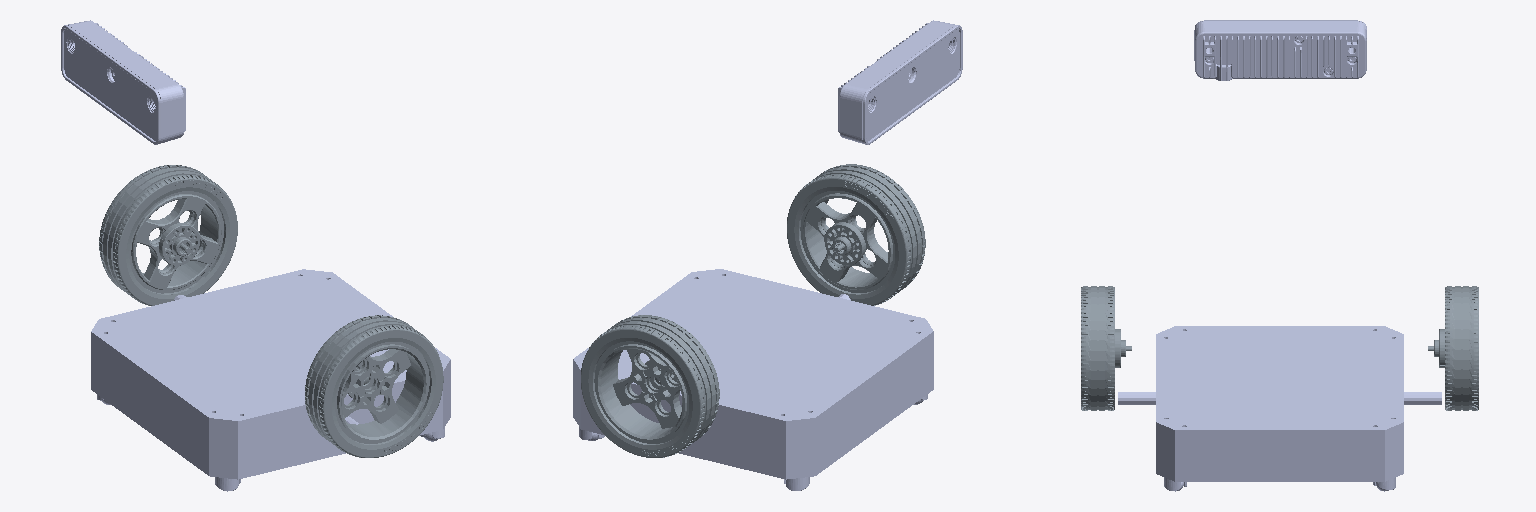
URDF robot description (Chulubot_v3):
<?xml version="1.0" encoding="utf-8"?>
<!-- This URDF was automatically created by SolidWorks to URDF Exporter! Originally created by [author] ([email redacted]) 
     Commit Version: 1.6.0-4-g7f85cfe  Build Version: 1.6.7995.38578
     For more information, please see http://wiki.ros.org/sw_urdf_exporter -->
<robot
  name="Chulubot_v3">
  <link
    name="base_link">
    <inertial>
      <origin
        xyz="-0.00106753594179072 2.16230235951052E-05 0.0430350704818082"
        rpy="0 0 0" />
      <mass
        value="0.449921989924034" />
      <inertia
        ixx="0.000882697284967844"
        ixy="-1.55905123751096E-05"
        ixz="2.49050193542988E-06"
        iyy="0.00101275036596537"
        iyz="-2.45140663479319E-10"
        izz="0.00187226553928426" />
    </inertial>
    <visual>
      <origin
        xyz="0 0 0"
        rpy="0 0 0" />
      <geometry>
        <mesh
          filename="package://Chulubot_v3/meshes/base_link.STL" />
      </geometry>
      <material
        name="">
        <color
          rgba="0.792156862745098 0.819607843137255 0.933333333333333 1" />
      </material>
    </visual>
    <collision>
      <origin
        xyz="0 0 0"
        rpy="0 0 0" />
      <geometry>
        <mesh
          filename="package://Chulubot_v3/meshes/base_link.STL" />
      </geometry>
    </collision>
  </link>
  <link
    name="RW_Link">
    <inertial>
      <origin
        xyz="-1.27500309431551E-06 -0.00151905091921613 5.70926108823394E-07"
        rpy="0 0 0" />
      <mass
        value="0.0309248678399296" />
      <inertia
        ixx="1.14652931244595E-05"
        ixy="2.44341763535491E-09"
        ixz="-4.7560893507066E-09"
        iyy="2.13403627399623E-05"
        iyz="4.65097170421401E-09"
        izz="1.145776443775E-05" />
    </inertial>
    <visual>
      <origin
        xyz="0 0 0"
        rpy="0 0 0" />
      <geometry>
        <mesh
          filename="package://Chulubot_v3/meshes/RW_Link.STL" />
      </geometry>
      <material
        name="">
        <color
          rgba="0.603921568627451 0.647058823529412 0.686274509803922 1" />
      </material>
    </visual>
    <collision>
      <origin
        xyz="0 0 0"
        rpy="0 0 0" />
      <geometry>
        <mesh
          filename="package://Chulubot_v3/meshes/RW_Link.STL" />
      </geometry>
    </collision>
  </link>
  <joint
    name="RW_joint"
    type="continuous">
    <origin
      xyz="0.0002 0.0963 0.01725"
      rpy="0 0 0" />
    <parent
      link="base_link" />
    <child
      link="RW_Link" />
    <axis
      xyz="0 -1 0" />
    <limit
      effort="1.4"
      velocity="5.96" />
    <dynamics
      friction="0.1" />
  </joint>
  <link
    name="LW_Link">
    <inertial>
      <origin
        xyz="1.27500309431589E-06 0.0015190509192161 5.70926108868497E-07"
        rpy="0 0 0" />
      <mass
        value="0.0309248678399297" />
      <inertia
        ixx="1.14652931244595E-05"
        ixy="2.44341763535846E-09"
        ixz="4.75608935070421E-09"
        iyy="2.13403627399623E-05"
        iyz="-4.65097170421015E-09"
        izz="1.145776443775E-05" />
    </inertial>
    <visual>
      <origin
        xyz="0 0 0"
        rpy="0 0 0" />
      <geometry>
        <mesh
          filename="package://Chulubot_v3/meshes/LW_Link.STL" />
      </geometry>
      <material
        name="">
        <color
          rgba="0.603921568627451 0.647058823529412 0.686274509803922 1" />
      </material>
    </visual>
    <collision>
      <origin
        xyz="0 0 0"
        rpy="0 0 0" />
      <geometry>
        <mesh
          filename="package://Chulubot_v3/meshes/LW_Link.STL" />
      </geometry>
    </collision>
  </link>
  <joint
    name="LW_joint"
    type="continuous">
    <origin
      xyz="0.0002 -0.0963 0.01725"
      rpy="0 0 0" />
    <parent
      link="base_link" />
    <child
      link="LW_Link" />
    <axis
      xyz="0 1 0" />
    <limit
      effort="1.4"
      velocity="5.96" />
    <dynamics
      friction="0.1" />
  </joint>
  <link
    name="OAK-D_Link">
    <inertial>
      <origin
        xyz="0.00594449114290635 -0.000106083630455743 -0.00489429412500983"
        rpy="0 0 0" />
      <mass
        value="0.0212385024641858" />
      <inertia
        ixx="1.53825541195807E-05"
        ixy="2.5203334543623E-09"
        ixz="5.24230913003515E-09"
        iyy="1.54494848665998E-06"
        iyz="-2.38780789421046E-08"
        izz="1.41520715979904E-05" />
    </inertial>
    <visual>
      <origin
        xyz="0 0 0"
        rpy="0 0 0" />
      <geometry>
        <mesh
          filename="package://Chulubot_v3/meshes/OAK-D_Link.STL" />
      </geometry>
      <material
        name="">
        <color
          rgba="0.792156862745098 0.819607843137255 0.933333333333333 1" />
      </material>
    </visual>
    <collision>
      <origin
        xyz="0 0 0"
        rpy="0 0 0" />
      <geometry>
        <mesh
          filename="package://Chulubot_v3/meshes/OAK-D_Link.STL" />
      </geometry>
    </collision>
  </link>
  <joint
    name="OAK-D_joint"
    type="fixed">
    <origin
      xyz="-0.084041 0.0004995 0.15854"
      rpy="0 0 0" />
    <parent
      link="base_link" />
    <child
      link="OAK-D_Link" />
    <axis
      xyz="0 0 0" />
  </joint>
  <link
    name="Laser_scan_link">
    <inertial>
      <origin
        xyz="-0.0116619135783735 0.000421721352483171 -0.0237705092730101"
        rpy="0 0 0" />
      <mass
        value="0.0735134320395797" />
      <inertia
        ixx="1.81430727341253E-05"
        ixy="-3.1352737051652E-07"
        ixz="3.25184699103723E-07"
        iyy="2.39640853936973E-05"
        iyz="1.07177138939515E-08"
        izz="3.9441060130773E-05" />
    </inertial>
    <visual>
      <origin
        xyz="0 0 0"
        rpy="0 0 0" />
      <geometry>
        <mesh
          filename="package://Chulubot_v3/meshes/Laser_scan_link.STL" />
      </geometry>
      <material
        name="">
        <color
          rgba="0.792156862745098 0.819607843137255 0.933333333333333 1" />
      </material>
    </visual>
    <collision>
      <origin
        xyz="0 0 0"
        rpy="0 0 0" />
      <geometry>
        <mesh
          filename="package://Chulubot_v3/meshes/Laser_scan_link.STL" />
      </geometry>
    </collision>
  </link>
  <joint
    name="Laser_scan_joint"
    type="fixed">
    <origin
      xyz="0.016742 0.0019953 0.2"
      rpy="0 0 0" />
    <parent
      link="base_link" />
    <child
      link="Laser_scan_link" />
    <axis
      xyz="0 0 0" />
  </joint>
</robot>

--- Render facts (derived) ---
The picture shows the robot from 3 angles, left to right: view 1: azimuth 30°, elevation 25°; view 2: azimuth 150°, elevation 25°; view 3: azimuth 270°, elevation 25°; orthographic projection.
Model Chulubot_v3 with 5 links and 4 joints (2 continuous, 2 fixed), rooted at base_link, posed all joints at 0.
Visible links, largest first — view 1: base_link, LW_Link, RW_Link, OAK-D_Link; view 2: base_link, RW_Link, LW_Link, OAK-D_Link; view 3: base_link, OAK-D_Link, RW_Link, LW_Link.
Boxes of the visible links, bbox=[...] form: base_link: bbox=[91, 269, 450, 491]; LW_Link: bbox=[305, 315, 443, 457]; RW_Link: bbox=[99, 165, 237, 305]; OAK-D_Link: bbox=[61, 20, 185, 144]; base_link: bbox=[573, 269, 933, 490]; RW_Link: bbox=[581, 315, 719, 457]; LW_Link: bbox=[787, 164, 925, 305]; OAK-D_Link: bbox=[838, 20, 962, 144]; base_link: bbox=[1118, 326, 1441, 491]; OAK-D_Link: bbox=[1194, 20, 1366, 80]; RW_Link: bbox=[1428, 286, 1478, 410]; LW_Link: bbox=[1081, 286, 1131, 410].
Bounding box of the posed robot: 0.1514 × 0.2097 × 0.2071 m (x, y, z).
Meshes: 5 distinct files referenced, 4 mesh visuals loaded (4 binary STL); not drawn: 1 (reference not matched to a file when rendering).